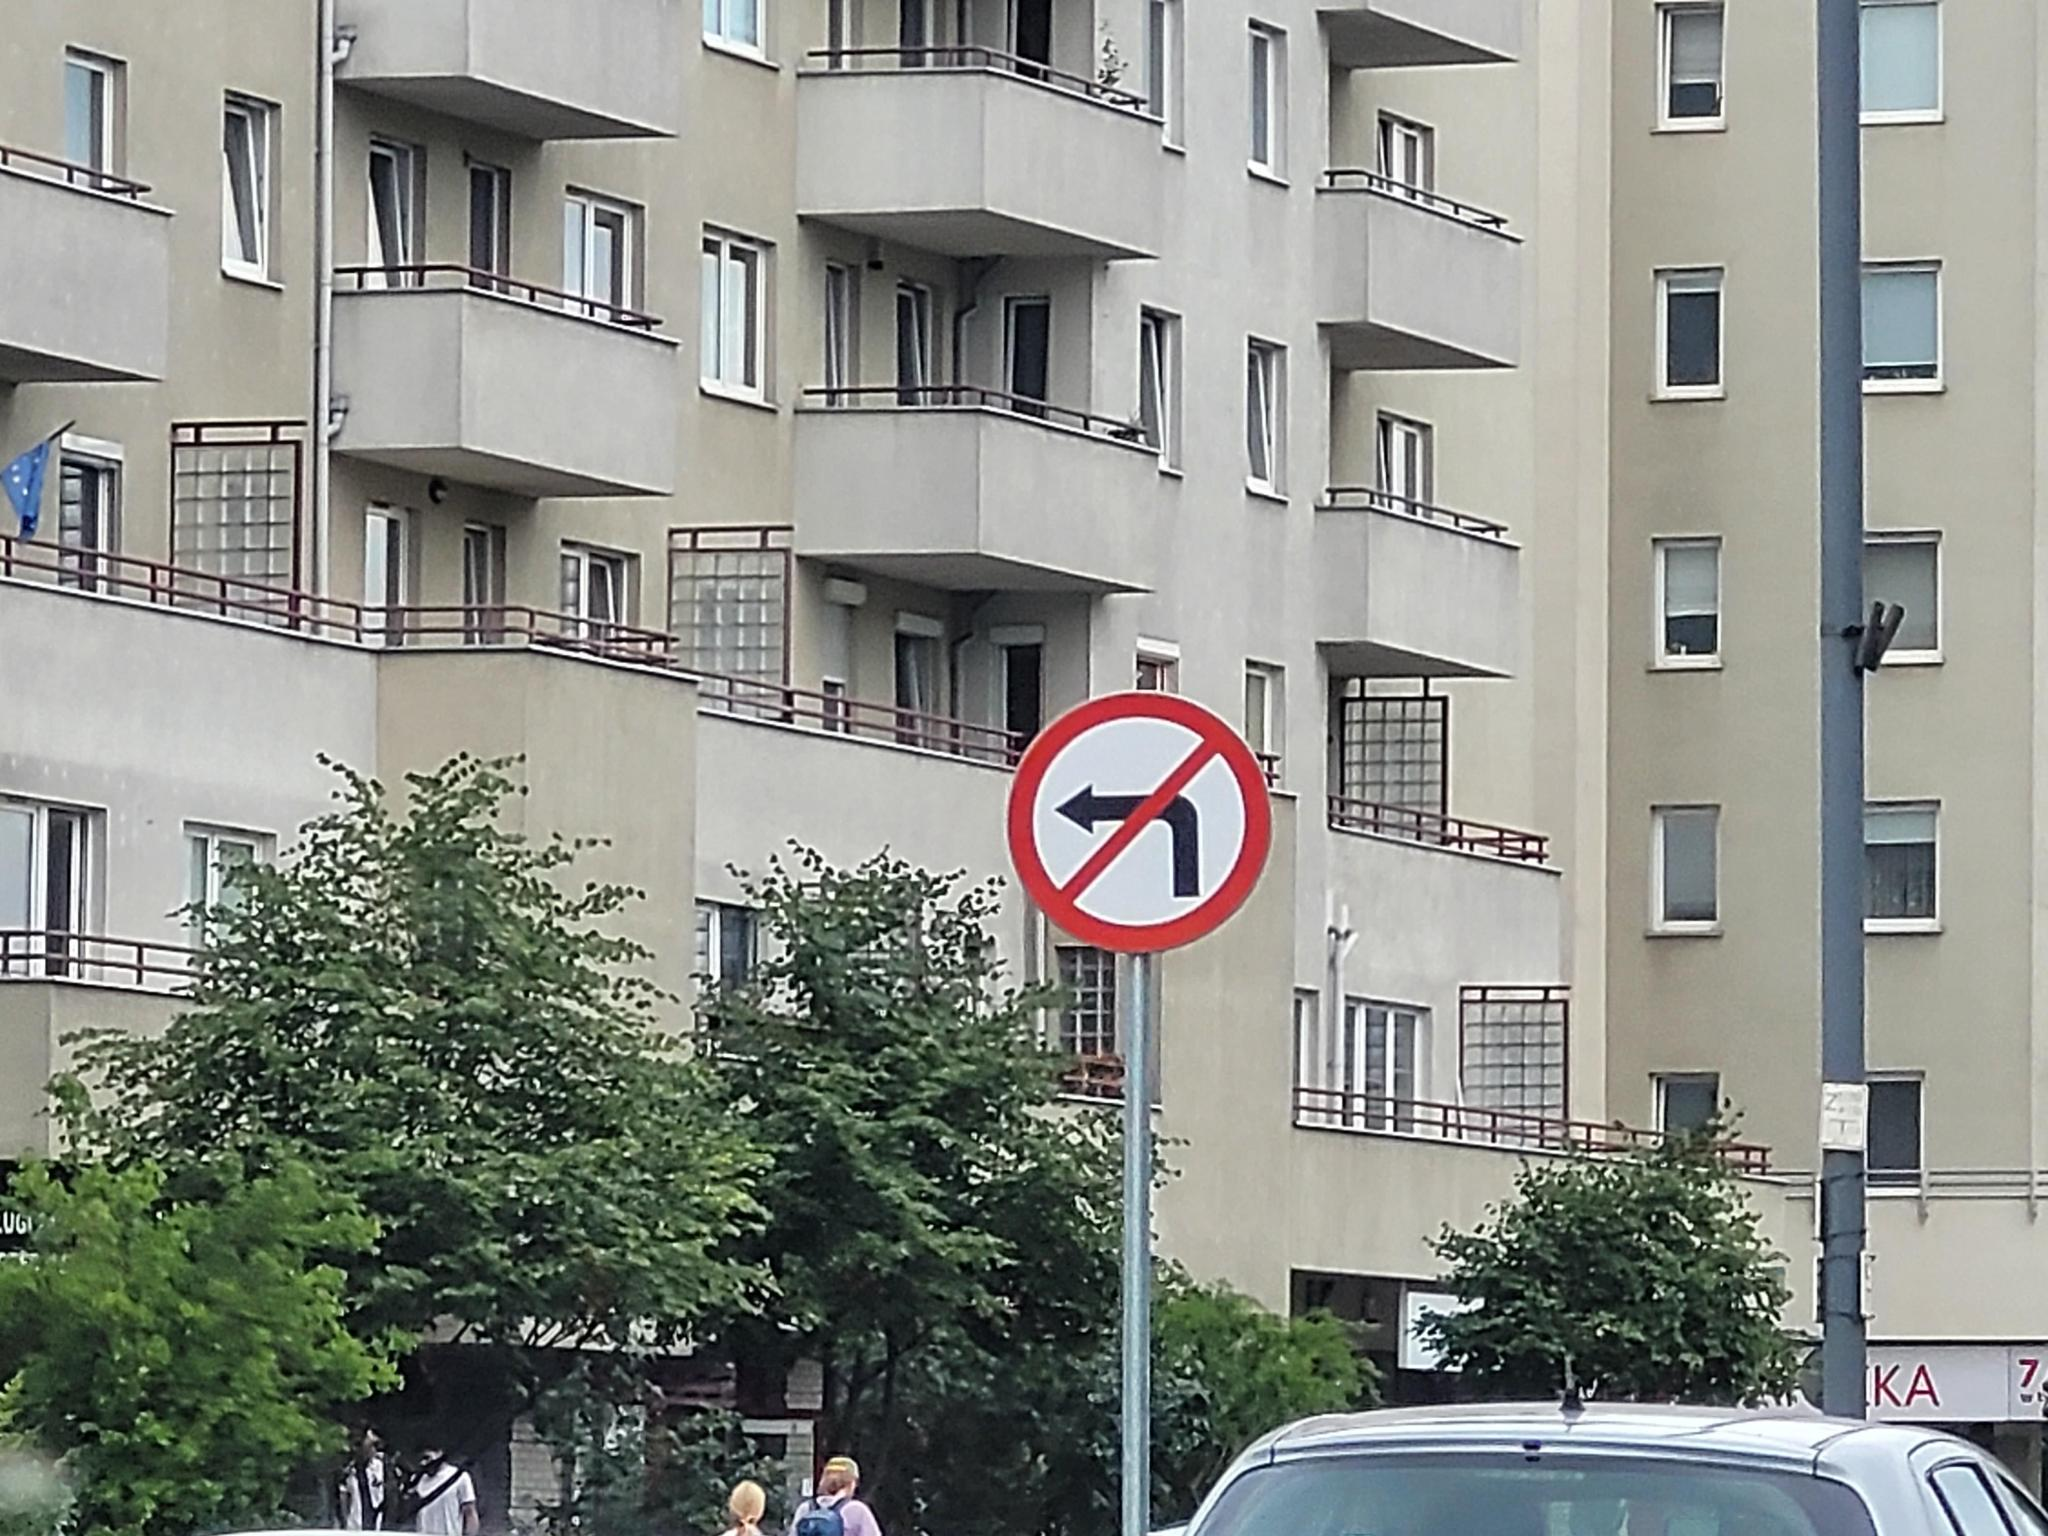prohibitory: (1005, 689, 1271, 955)
